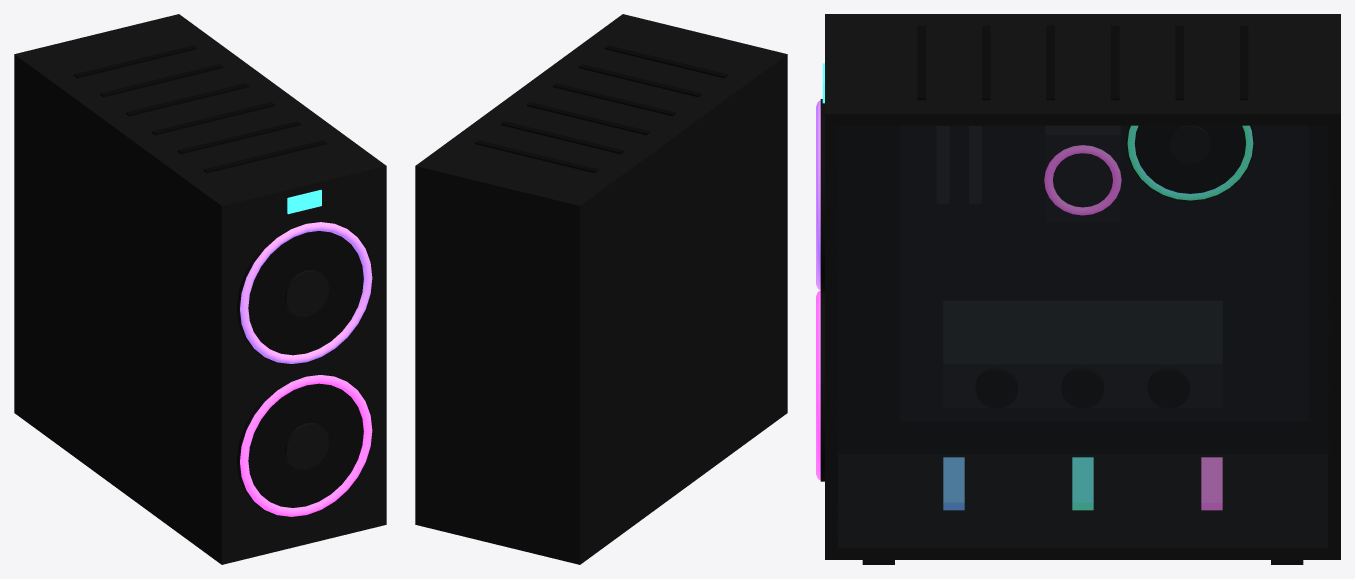
The model's file is 13-pc-tower-acer-predator-rgb.glb.
3 views of the same model, side by side, from view 1: azimuth 30°, elevation 25°; view 2: azimuth 150°, elevation 25°; view 3: azimuth 270°, elevation 25° (orthographic). The views are drawn at different scales.
Size of the model in its own units: 0.22 by 0.472 by 0.4883.
